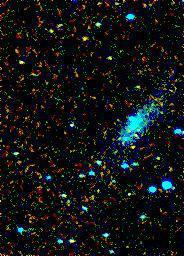star: (119, 131, 149, 161)
